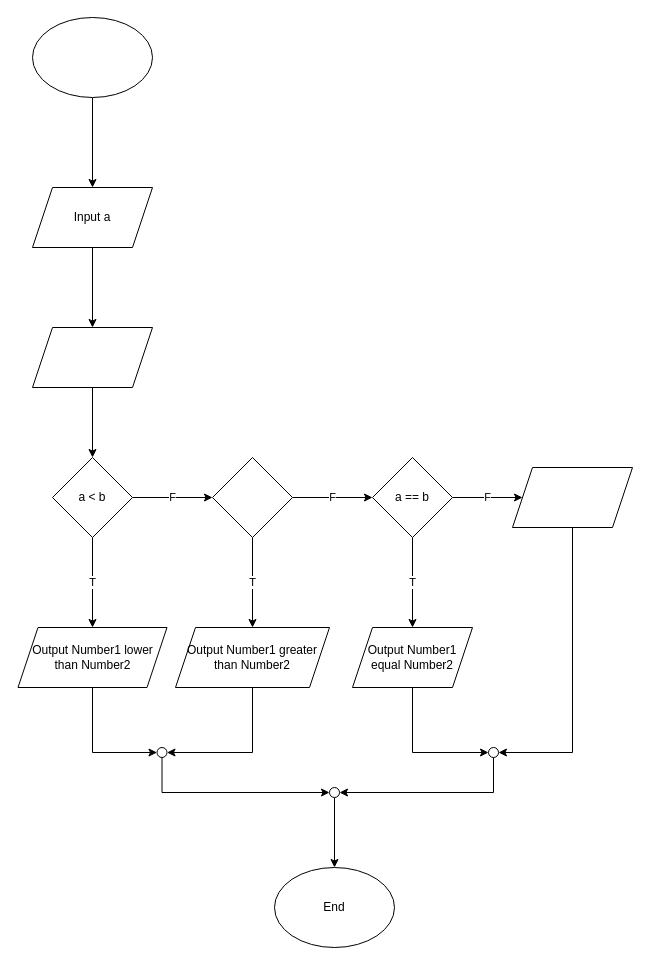
Some shapes in this 650 by 965 pixel diagram are drawn without their labels. Here are the shapes that lost their labels. From the top down, the centre of each, then its label:
At [92,57]: "Start".
At [92,357]: "Input b".
At [252,497]: "a > b".
At [572,497]: "Output Error".
